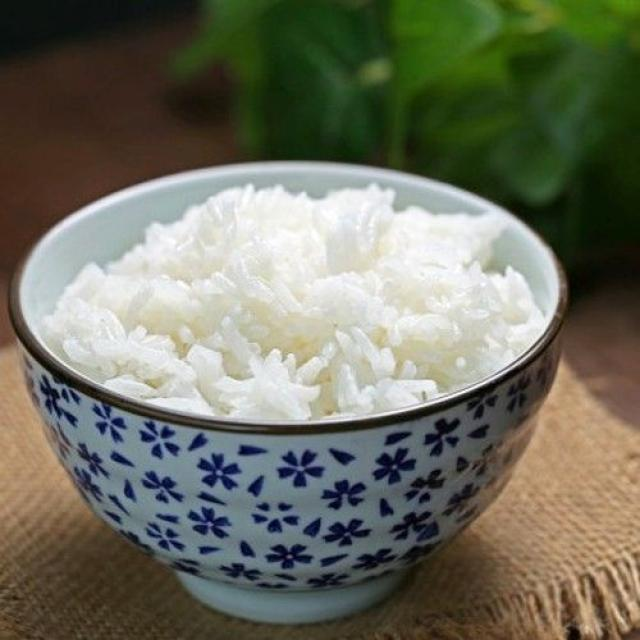nasi_putih: (44, 176, 552, 426)
